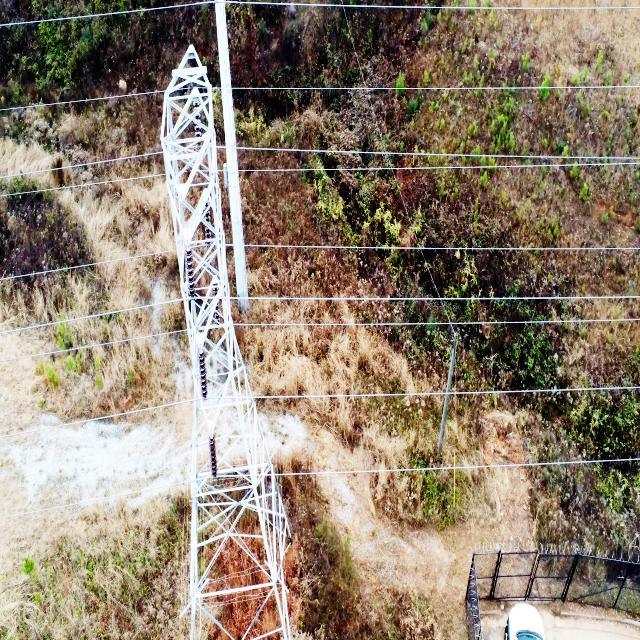poles: (160, 44, 290, 640)
wires: (234, 134, 640, 169), (274, 455, 640, 478), (0, 479, 190, 520), (0, 150, 165, 193), (0, 0, 215, 29), (0, 329, 186, 362), (0, 250, 175, 281), (52, 400, 193, 428), (0, 90, 165, 112), (62, 299, 182, 322), (247, 295, 640, 302), (240, 148, 325, 179), (57, 148, 162, 170), (235, 322, 451, 330), (254, 391, 444, 400), (231, 86, 400, 92), (226, 0, 346, 8), (246, 243, 383, 250), (0, 321, 61, 335), (534, 247, 640, 252), (347, 4, 428, 9), (402, 86, 503, 90), (529, 7, 640, 10), (496, 390, 565, 394), (384, 247, 460, 250), (16, 325, 46, 332), (0, 431, 30, 438), (480, 247, 531, 251), (564, 320, 610, 324), (594, 386, 640, 390), (450, 391, 493, 395), (612, 318, 640, 322), (534, 320, 561, 324), (499, 321, 533, 324), (509, 86, 539, 89), (629, 84, 640, 89), (608, 85, 620, 89)
